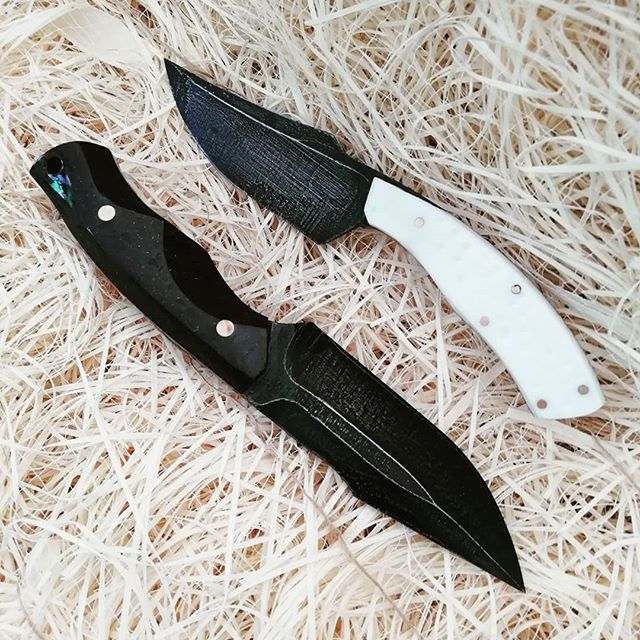knife: (30, 141, 527, 593), (164, 57, 604, 419)
